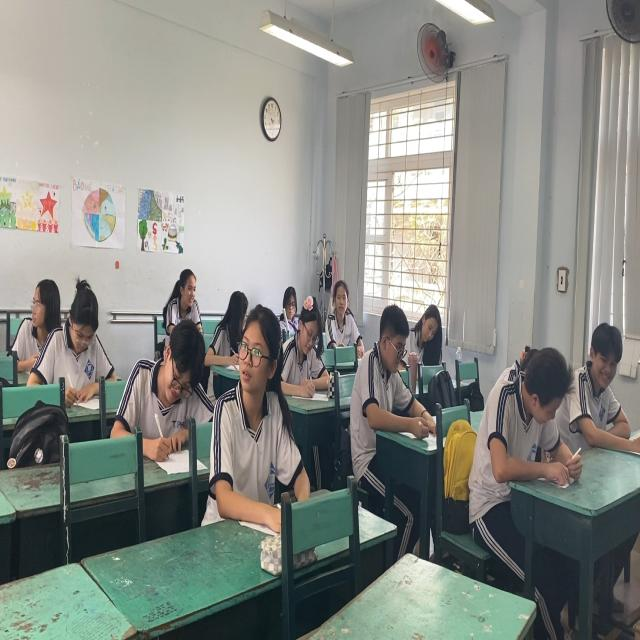cheating: (230, 302, 292, 502), (18, 274, 64, 347), (216, 289, 252, 351)
not_cheating: (500, 331, 563, 493), (569, 325, 640, 460), (55, 272, 122, 404), (137, 315, 213, 431), (364, 294, 414, 434), (283, 294, 335, 400), (327, 275, 361, 355), (163, 268, 207, 328), (413, 302, 444, 362), (272, 285, 300, 331)
